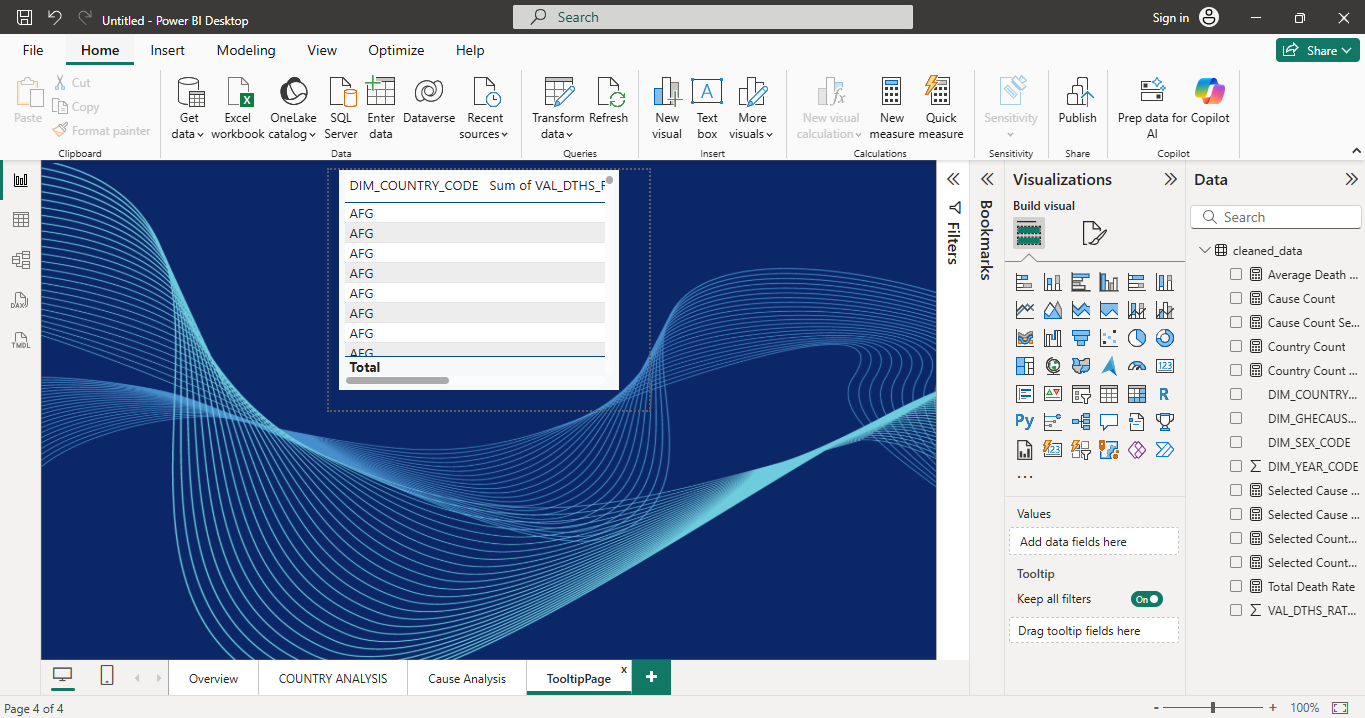

The page's visual inventory and layout, read from the dashboard file:
{"tool":"powerbi","page":{"name":"TooltipPage","canvas":[320,240],"ordinal":3},"visuals":[{"type":"tableEx","fields":{"Values":["cleaned_data.DIM_COUNTRY_CODE","Sum(cleaned_data.VAL_DTHS_RATE100K_NUMERIC)","cleaned_data.DIM_GHECAUSE_TITLE"]},"box":[10,0,280,220],"z":0}]}

Visuals, with their boxes on the page's 320x240 design canvas (x1, y1, x2, y2). These are canvas units, not pixel positions in the 1365x718 screenshot, which may show the page scaled, cropped or inside an application window:
tableEx - cleaned_data.DIM_COUNTRY_CODE x Sum(cleaned_data.VAL_DTHS_RATE100K_NUMERIC): l=10, t=0, r=290, b=220
